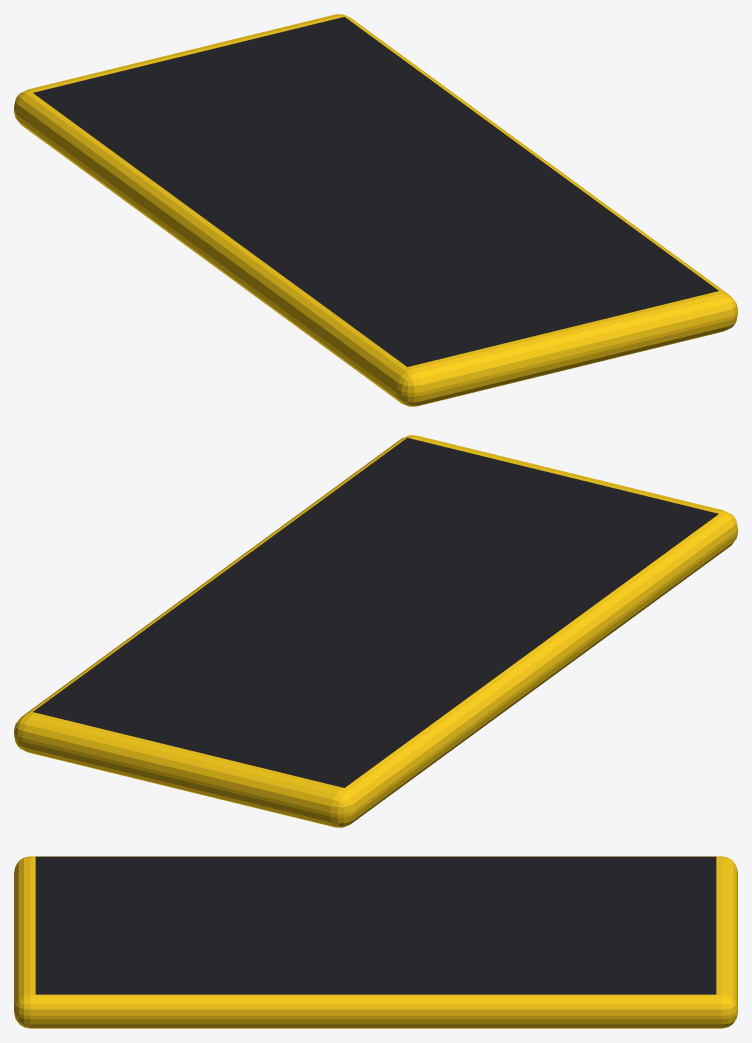
Rendered from Phone_928.glb.
3 renders of one model, top to bottom at view 1: azimuth 30°, elevation 25°; view 2: azimuth 150°, elevation 25°; view 3: azimuth 270°, elevation 25°, orthographic. The views are drawn at different scales.
Parts seen in each view (by area): view 1: Phone_Screen, Phone_Body; view 2: Phone_Screen, Phone_Body; view 3: Phone_Screen, Phone_Body.
Boxes of the visible parts, box(x1,y1,x2,y2) form: Phone_Screen: box(33, 17, 718, 366); Phone_Body: box(14, 14, 737, 406); Phone_Screen: box(33, 438, 718, 787); Phone_Body: box(14, 435, 737, 827); Phone_Screen: box(35, 856, 716, 994); Phone_Body: box(14, 856, 737, 1028).
Bounding box in the file's own units: 0.0793 × 0.0082 × 0.1615.
